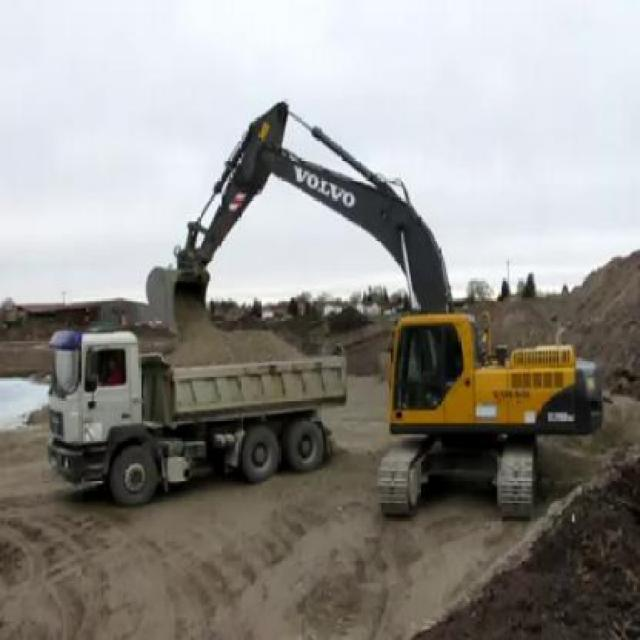Dump Truck: (45, 328, 347, 504)
Excavator: (144, 98, 604, 519)
